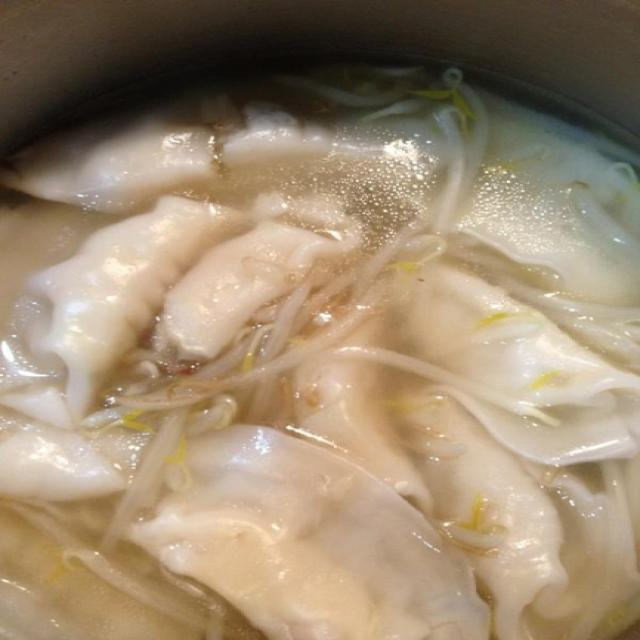带馅早点: (13, 48, 620, 608)
